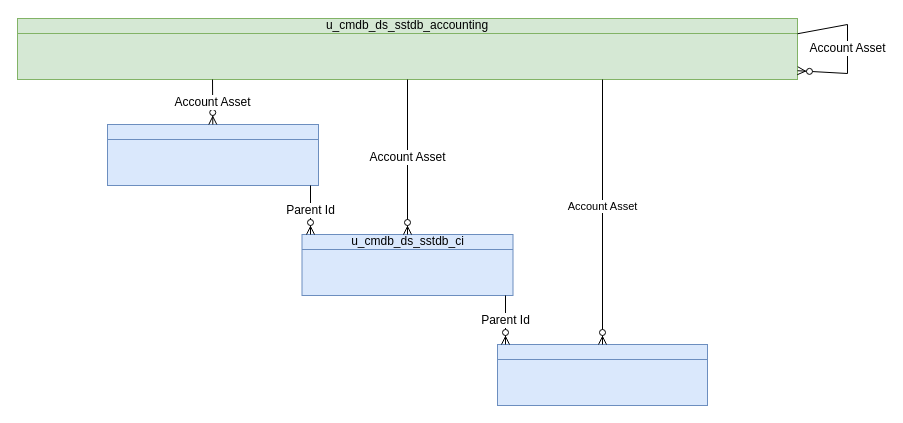
This 903x423 diagram has some shape labels left out. Here are the shapes that lost their labels. From the top down, the centre of each, then its label:
At [212,155]: "u_cmdb_ds_sstdb".
At [602,375]: "u_cmdb_ds_sstdb_mobile_device".
